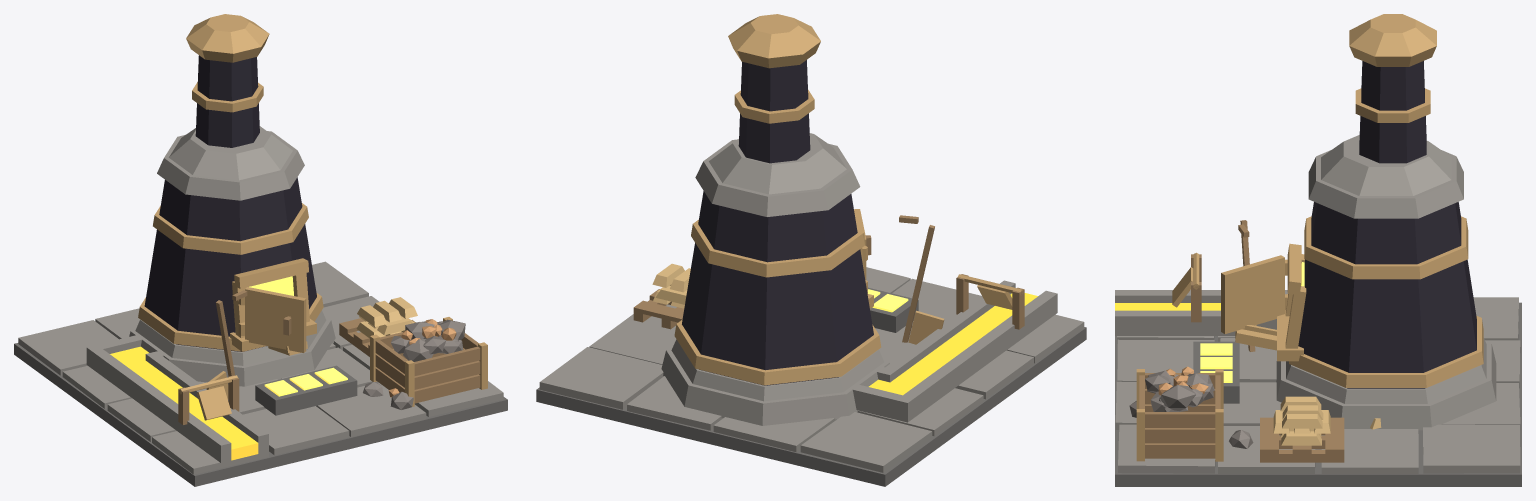
The model's file is msmelter.glb.
3 renders of one model, left to right at view 1: azimuth 30°, elevation 25°; view 2: azimuth 150°, elevation 25°; view 3: azimuth 270°, elevation 25°, orthographic. The views are drawn at different scales.
Visible parts, largest first — view 1: floor_flagstones, furnace_body, furnace_crown, floor_base, magma_channel, furnace_plinth, chimney, ore_crate, furnace_bands, chimney_cap, furnace_door, magma_flow (+11 smaller); view 2: floor_flagstones, furnace_body, furnace_plinth, furnace_crown, magma_channel, floor_base, furnace_bands, chimney, chimney_cap, magma_flow, ingots, casting_mould (+5 smaller); view 3: floor_flagstones, furnace_body, furnace_crown, furnace_plinth, floor_base, furnace_bands, chimney, chimney_cap, ore_crate, furnace_door, magma_channel, ingot_pallet (+11 smaller).
Boxes of the visible parts, x1,y1,x2,y2 form: floor_flagstones: (18, 261, 503, 474); furnace_body: (144, 177, 316, 351); furnace_crown: (157, 126, 304, 200); floor_base: (14, 343, 507, 486); magma_channel: (86, 335, 268, 462); furnace_plinth: (129, 310, 335, 386); chimney: (195, 55, 259, 147); ore_crate: (375, 332, 480, 403); furnace_bands: (138, 203, 323, 351); chimney_cap: (186, 14, 269, 112); furnace_door: (238, 287, 306, 352); magma_flow: (110, 346, 258, 460); floor_flagstones: (539, 267, 1084, 472); furnace_body: (682, 191, 873, 385); furnace_plinth: (661, 339, 889, 425); furnace_crown: (695, 133, 860, 216); magma_channel: (849, 280, 1057, 422); floor_base: (536, 327, 1086, 486); furnace_bands: (674, 219, 881, 385); chimney: (738, 60, 810, 163); chimney_cap: (728, 14, 820, 123); magma_flow: (868, 293, 1037, 395); ingots: (652, 263, 690, 308); casting_mould: (868, 287, 918, 332); floor_flagstones: (1115, 297, 1520, 473); furnace_body: (1298, 202, 1476, 388); furnace_crown: (1308, 135, 1463, 218); furnace_plinth: (1276, 338, 1496, 430); floor_base: (1115, 302, 1521, 486); furnace_bands: (1289, 216, 1483, 387); chimney: (1359, 61, 1426, 163); chimney_cap: (1349, 14, 1436, 122); ore_crate: (1139, 373, 1220, 458); furnace_door: (1221, 255, 1287, 333); magma_channel: (1115, 290, 1287, 335); ingot_pallet: (1260, 417, 1344, 462).
Size of what is drawn, in the model's own units: 3 by 3.07 by 3.
